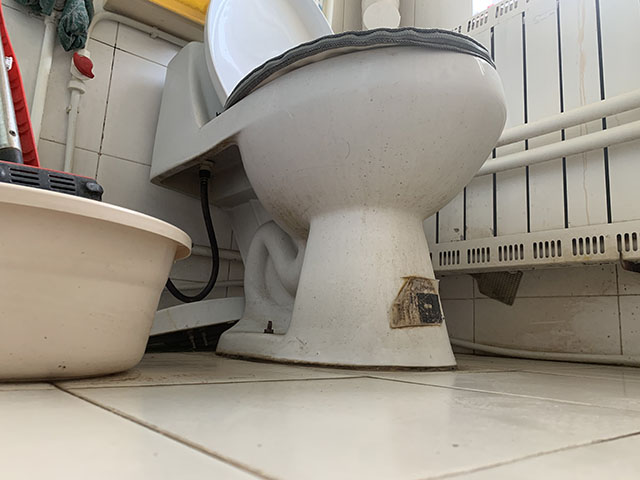closestool: (149, 1, 509, 374)
